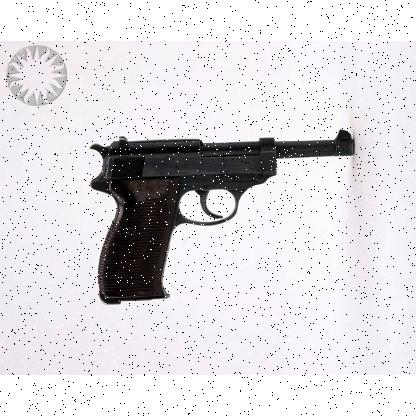gun: (90, 128, 352, 304)
